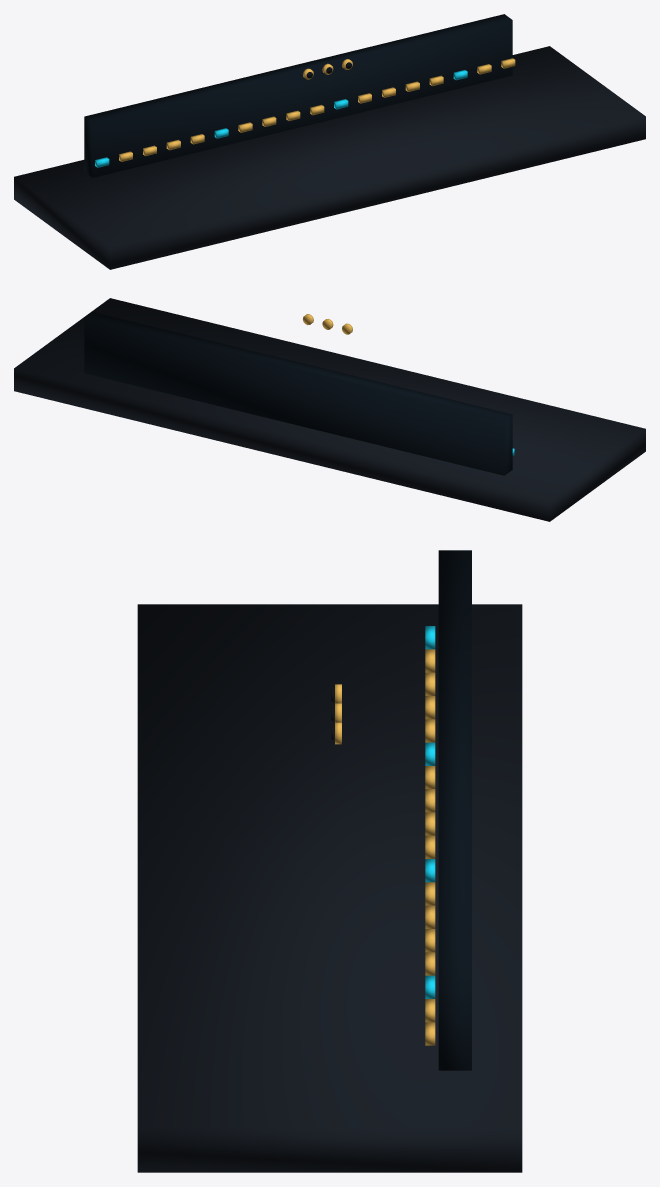
File: 14_L93_ScienceMissionControlDesk.fbx
The picture shows the model from 3 angles, top to bottom: view 1: azimuth 30°, elevation 25°; view 2: azimuth 150°, elevation 25°; view 3: azimuth 270°, elevation 25°; orthographic projection. The views are drawn at different scales.
Parts seen in each view (by area): view 1: L92_ScienceMissionControlDesk_Part_0000, L92_ScienceMissionControlDesk_Part_0001, L92_ScienceMissionControlDesk_Part_0003, L92_ScienceMissionControlDesk_Part_0002; view 2: L92_ScienceMissionControlDesk_Part_0000, L92_ScienceMissionControlDesk_Part_0001; view 3: L92_ScienceMissionControlDesk_Part_0000, L92_ScienceMissionControlDesk_Part_0001, L92_ScienceMissionControlDesk_Part_0003, L92_ScienceMissionControlDesk_Part_0002.
Boxes of the visible parts, left/top/right/bottom form: L92_ScienceMissionControlDesk_Part_0000: left=14, top=46, right=645, bottom=269; L92_ScienceMissionControlDesk_Part_0001: left=84, top=14, right=512, bottom=177; L92_ScienceMissionControlDesk_Part_0003: left=119, top=58, right=515, bottom=161; L92_ScienceMissionControlDesk_Part_0002: left=95, top=70, right=467, bottom=167; L92_ScienceMissionControlDesk_Part_0000: left=14, top=298, right=645, bottom=521; L92_ScienceMissionControlDesk_Part_0001: left=84, top=312, right=512, bottom=475; L92_ScienceMissionControlDesk_Part_0000: left=137, top=604, right=522, bottom=1172; L92_ScienceMissionControlDesk_Part_0001: left=438, top=550, right=471, bottom=1070; L92_ScienceMissionControlDesk_Part_0003: left=425, top=649, right=435, bottom=1045; L92_ScienceMissionControlDesk_Part_0002: left=425, top=626, right=435, bottom=998.
Size of the model in its own units: 740 by 144 by 230.
